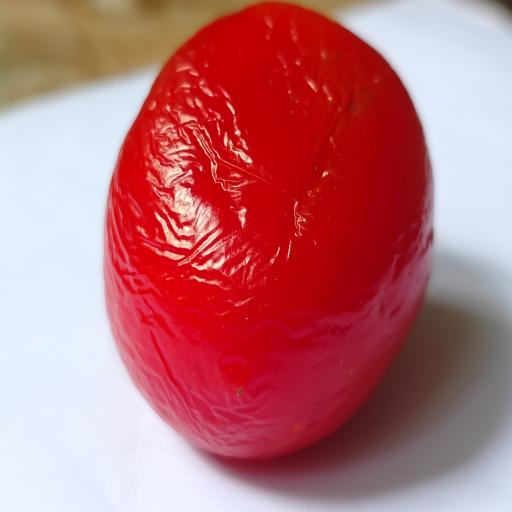spoiled: (104, 2, 433, 458)
